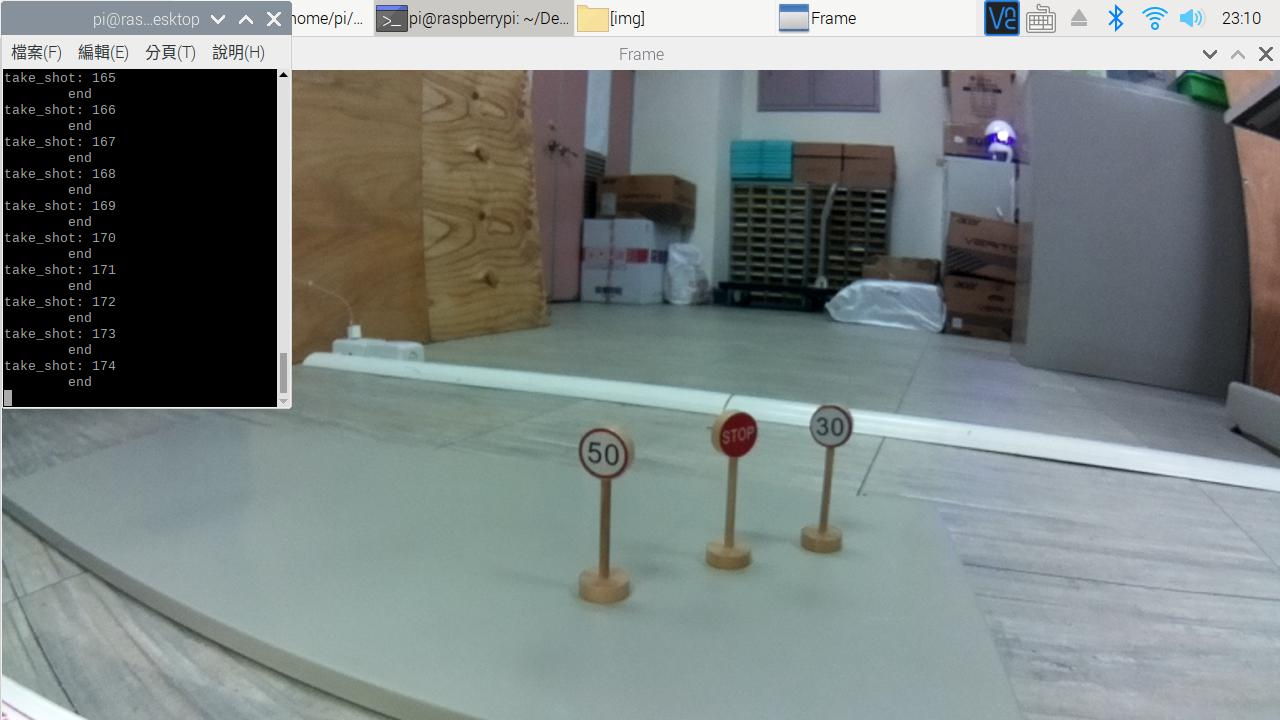Speed30: (800, 396, 864, 451)
Speed50: (561, 420, 648, 491)
Stop: (703, 408, 778, 470)
